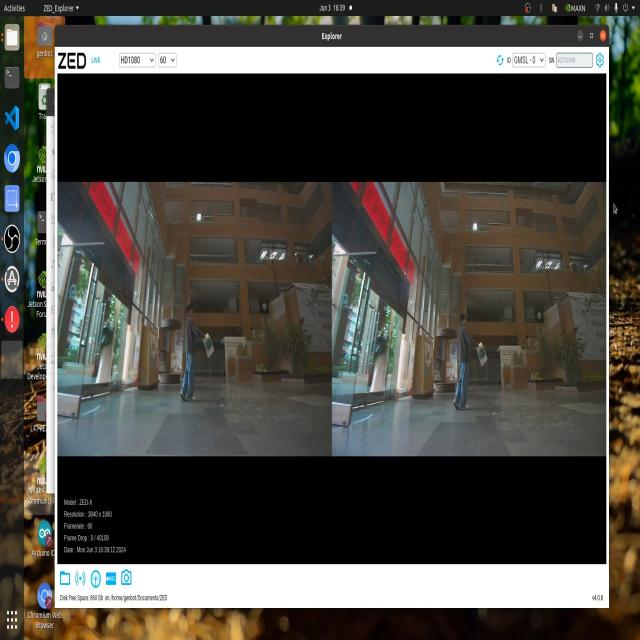green: (475, 344, 489, 367), (202, 333, 215, 357)
